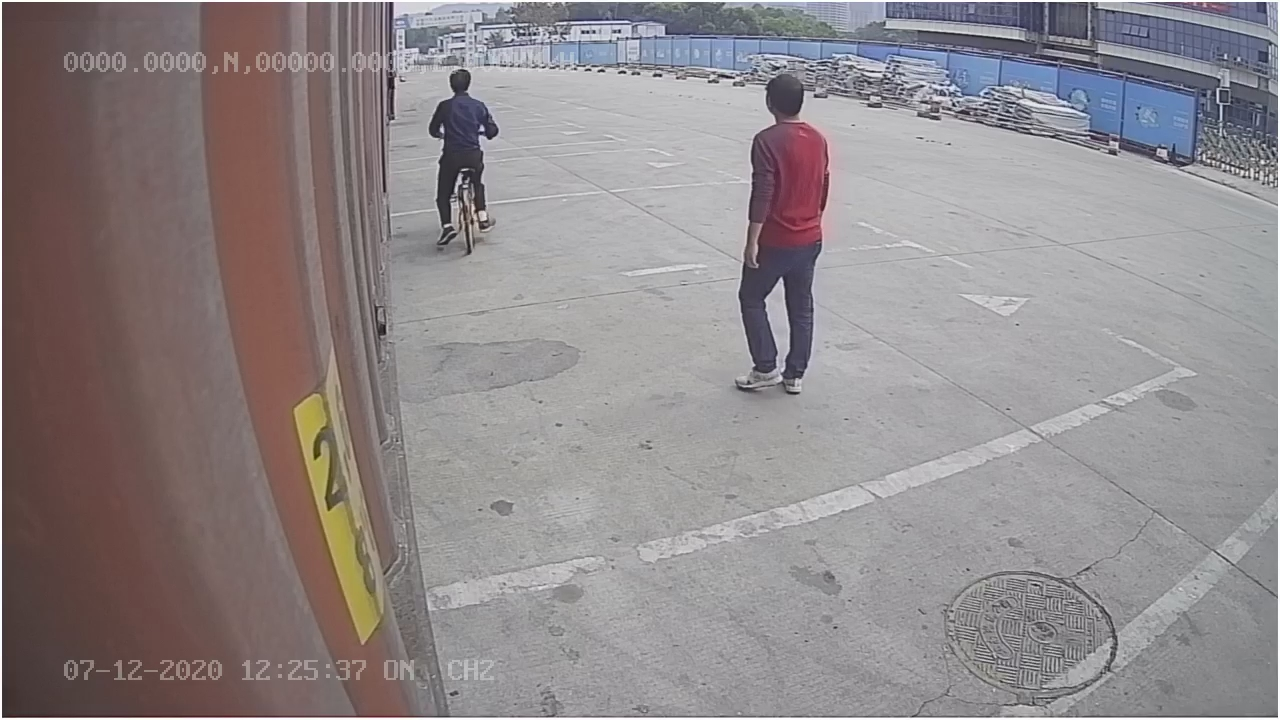person: (729, 69, 838, 397)
